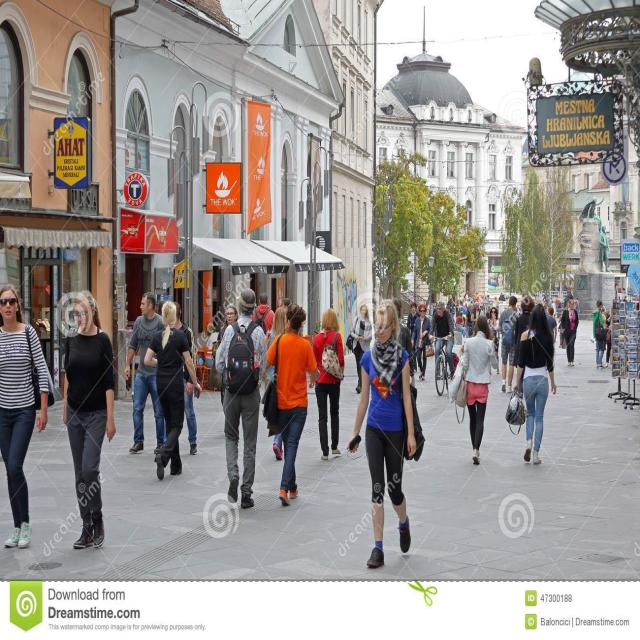body: (344, 296, 419, 569), (0, 282, 57, 551), (61, 287, 118, 551), (262, 302, 320, 508), (215, 285, 267, 510), (142, 299, 203, 483), (504, 301, 558, 467), (446, 313, 500, 467), (123, 291, 166, 455), (307, 306, 347, 462), (172, 300, 199, 456), (265, 306, 288, 462), (512, 294, 536, 401), (496, 293, 521, 394), (390, 297, 416, 389), (427, 300, 455, 381), (349, 302, 373, 395), (410, 303, 431, 381), (446, 291, 512, 312), (560, 298, 580, 367), (252, 292, 276, 336), (486, 306, 501, 375), (592, 300, 606, 370), (199, 320, 220, 364), (407, 302, 420, 368), (552, 286, 580, 312), (545, 306, 558, 344), (604, 310, 612, 369), (470, 301, 483, 337), (465, 303, 476, 338), (455, 311, 467, 340), (224, 303, 238, 326), (558, 310, 566, 350), (493, 269, 508, 289), (614, 282, 627, 301), (156, 295, 167, 316), (280, 292, 296, 306), (601, 304, 609, 324), (543, 302, 549, 318)
